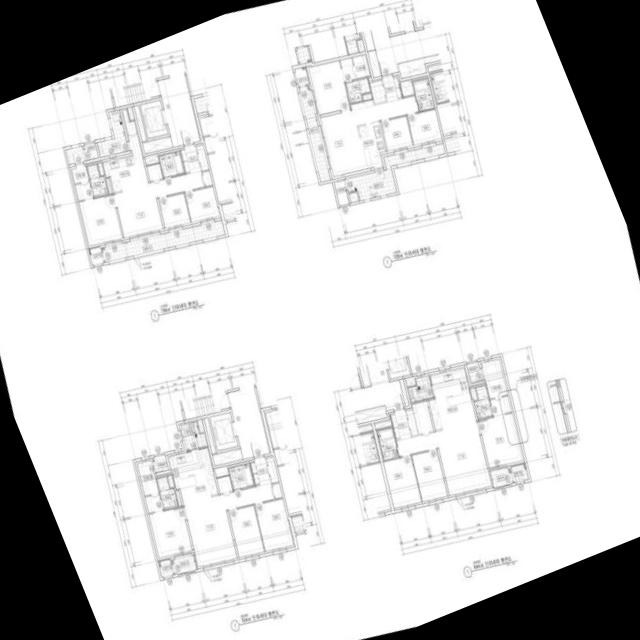background: (0, 0, 640, 640)
space_balconi: (345, 143, 445, 200), (101, 220, 225, 262), (298, 85, 330, 182), (97, 109, 128, 157), (180, 421, 207, 450), (408, 375, 433, 402), (171, 553, 196, 574), (490, 467, 513, 487)
space_bedroom: (478, 413, 523, 468), (308, 60, 350, 114), (149, 506, 192, 557), (79, 194, 122, 245), (254, 498, 293, 551), (383, 455, 421, 508), (228, 505, 264, 557), (412, 449, 447, 501), (185, 186, 219, 222), (407, 109, 441, 144), (158, 193, 190, 228), (381, 116, 413, 150)
space_dressroom: (481, 359, 512, 415), (137, 460, 162, 512), (340, 54, 369, 81), (71, 164, 92, 200)
space_elevator: (210, 412, 238, 450), (140, 100, 168, 138)
space_elevator_hall: (158, 74, 200, 147), (228, 386, 269, 459)
space_front: (250, 455, 271, 485), (390, 409, 411, 439), (180, 143, 201, 173), (382, 74, 402, 102)
space_kitchen: (102, 109, 148, 191), (428, 367, 476, 430), (168, 447, 218, 501), (356, 120, 386, 169)
space_living_room: (320, 95, 418, 176), (183, 483, 274, 566), (396, 420, 491, 495), (114, 170, 205, 237)
space_other: (65, 142, 98, 164), (412, 400, 433, 434), (212, 448, 243, 465), (142, 136, 173, 153), (204, 417, 216, 453), (134, 105, 146, 141), (466, 361, 484, 383), (369, 80, 386, 103), (334, 179, 349, 205), (266, 457, 278, 483), (406, 409, 418, 435), (196, 144, 208, 170), (216, 475, 232, 493), (146, 163, 162, 181), (153, 455, 168, 473), (399, 379, 409, 406), (400, 80, 414, 96), (374, 420, 392, 429), (272, 483, 282, 498), (202, 171, 212, 186), (144, 155, 159, 165), (470, 387, 477, 400), (97, 162, 104, 175), (176, 490, 182, 505), (106, 178, 112, 193), (349, 192, 358, 202), (167, 475, 174, 487), (197, 420, 204, 432), (127, 108, 134, 120), (406, 378, 416, 386), (362, 93, 372, 100)
space_outdoor_room: (510, 463, 529, 482), (294, 66, 309, 86), (158, 559, 173, 577)
space_toilet: (412, 78, 434, 111), (156, 476, 178, 509), (377, 427, 399, 460), (86, 164, 108, 197), (228, 463, 254, 490), (159, 151, 184, 177), (345, 77, 370, 103), (474, 385, 492, 419)
